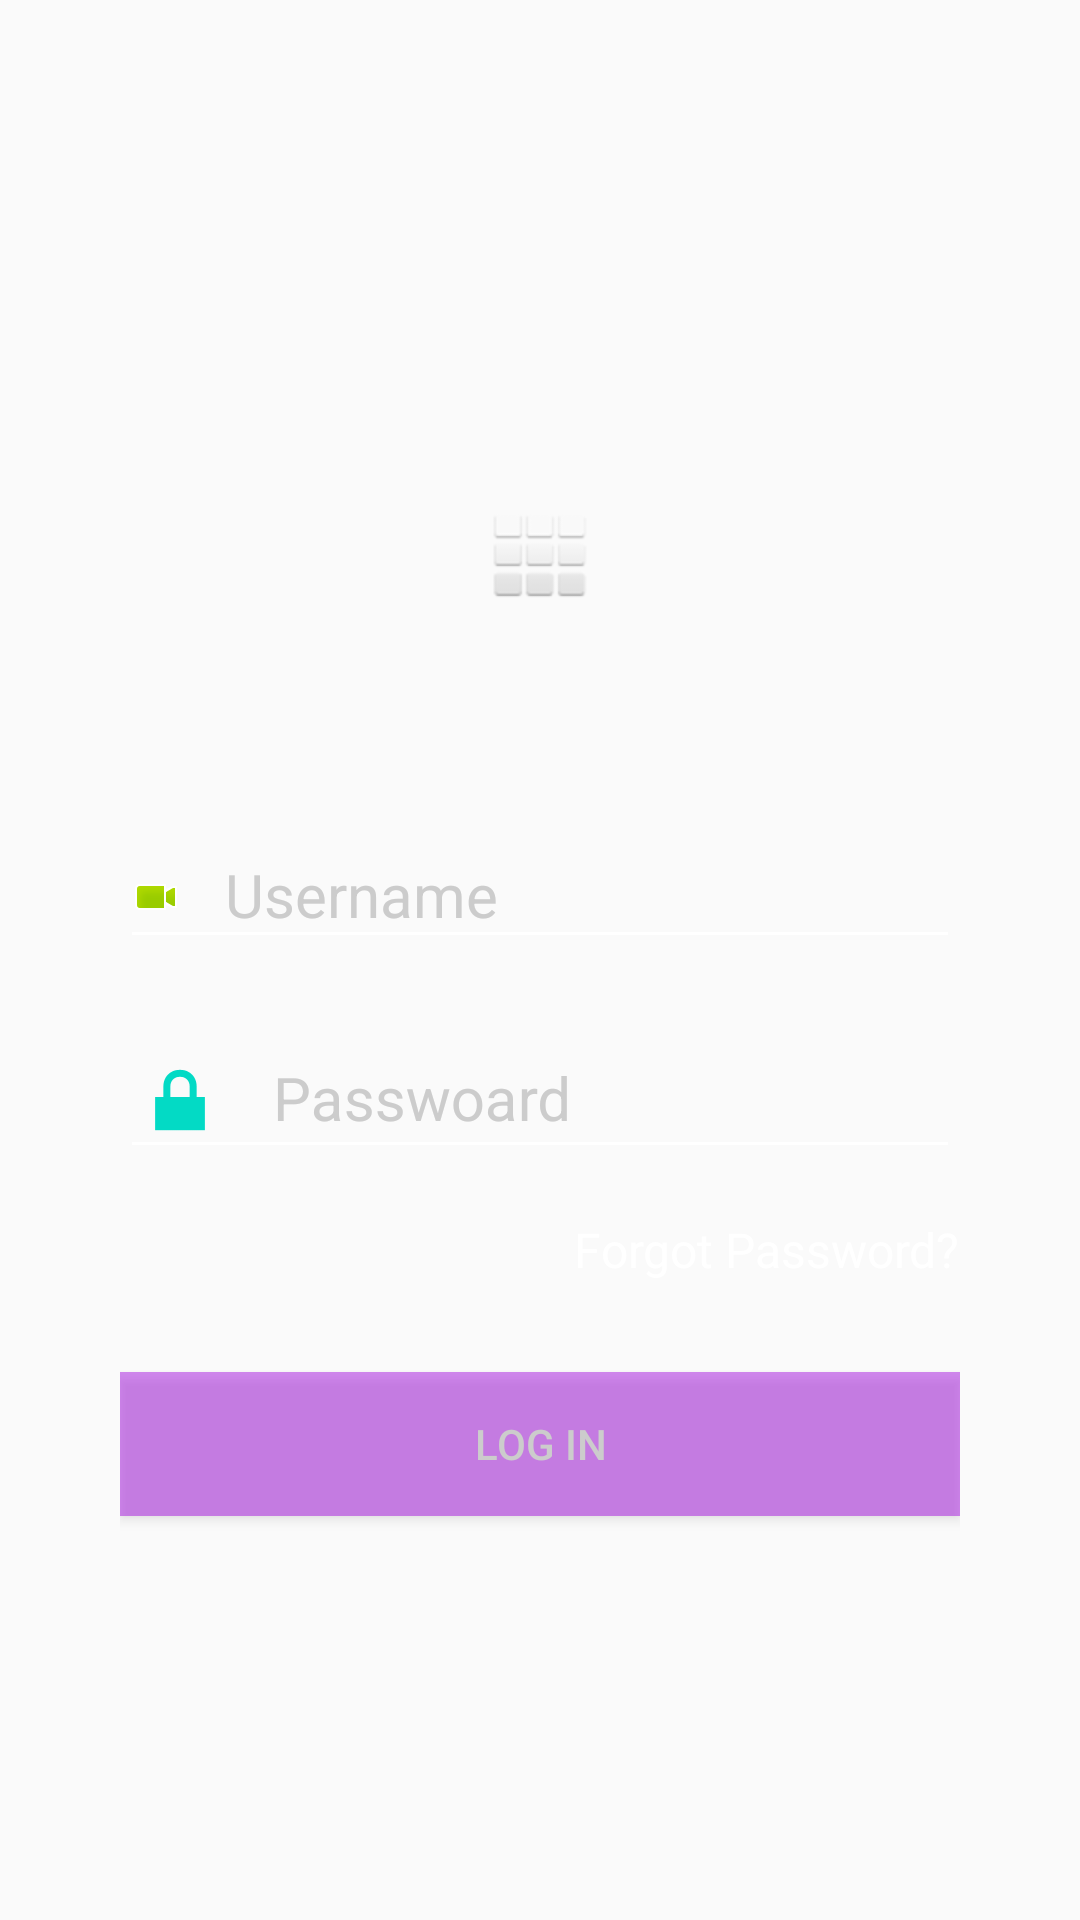

Icon bounding boxes for this 1080px x 1920px phone screenshot, format (x1, y1, x2, y2):
dialer: (495, 535, 584, 596)
